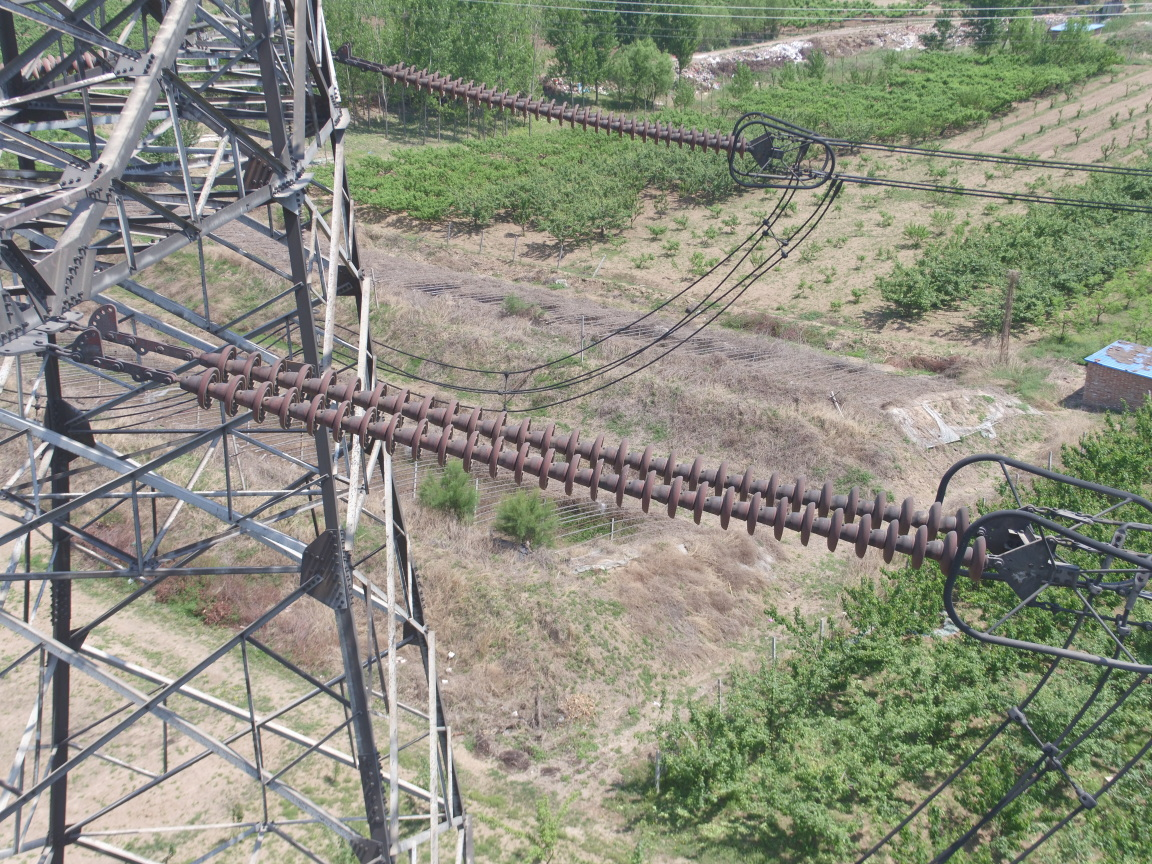insulator: (155, 338, 1017, 586), (369, 60, 759, 158)
